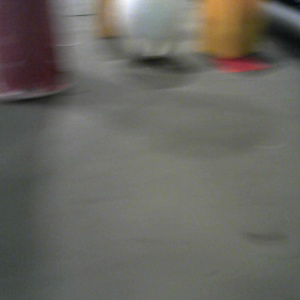middle: (1, 1, 74, 102)
